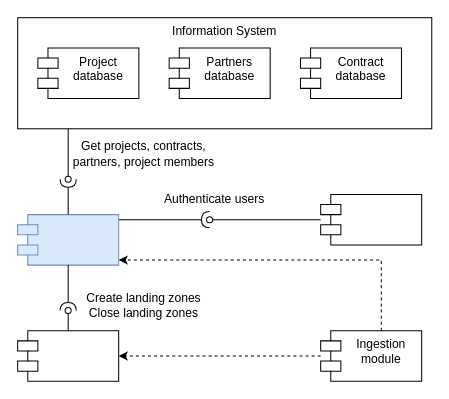
The diagram is 449 pixels wide and 399 high, and some of its shapes have lost their labels. The box of each missing label's shape, as (x1, y1, x2, y2) in pixels:
DSS: (17, 214, 119, 265)
Keycloak: (320, 193, 422, 245)
Transfer tool: (17, 330, 119, 381)
